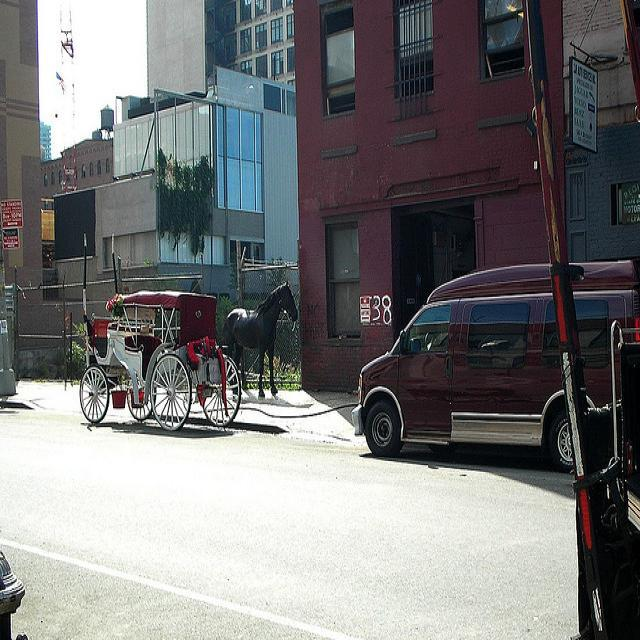fire_hydrant: (0, 548, 25, 640)
